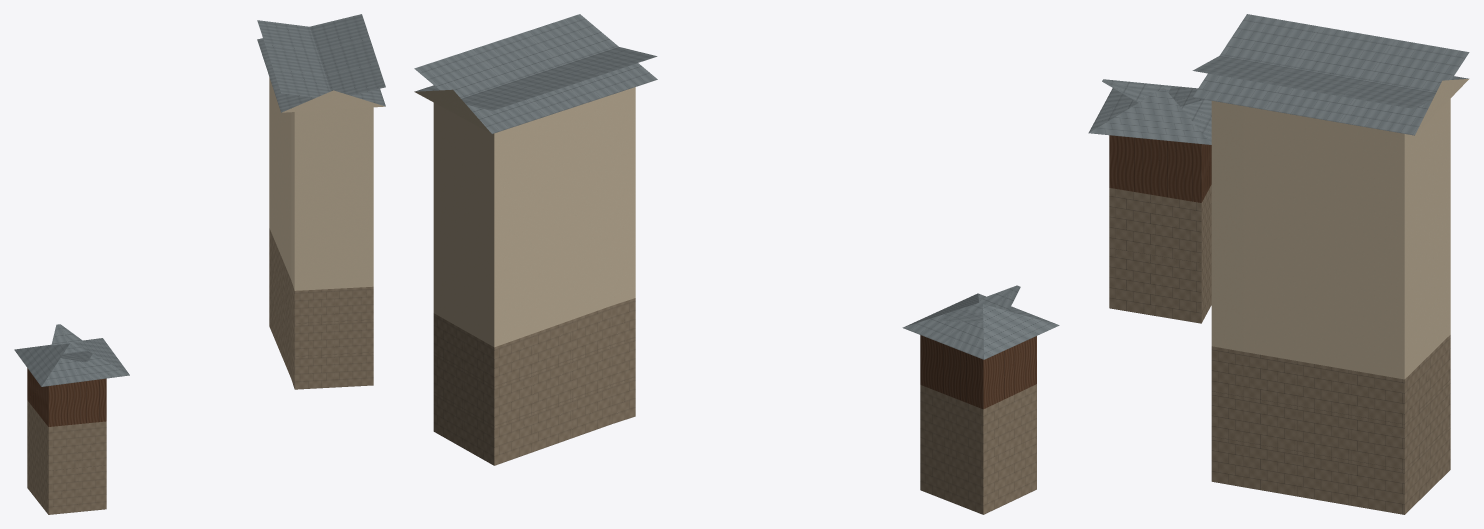
File: bld_c-11_35_473.gltf
3 views of the same model, side by side, from view 1: azimuth 30°, elevation 25°; view 2: azimuth 150°, elevation 25°; view 3: azimuth 270°, elevation 25° (orthographic). The views are drawn at different scales.
Visible parts, largest first — view 1: bld_c-11_35_473; view 2: bld_c-11_35_473; view 3: bld_c-11_35_473.
Part boxes in pixels (x1,y1,x2,y2): bld_c-11_35_473: [14, 14, 385, 514]; bld_c-11_35_473: [414, 14, 1059, 514]; bld_c-11_35_473: [1088, 14, 1469, 514].
Size of the model in its own units: 23.2 by 16.75 by 13.01.
5 materials, 5 textured.
